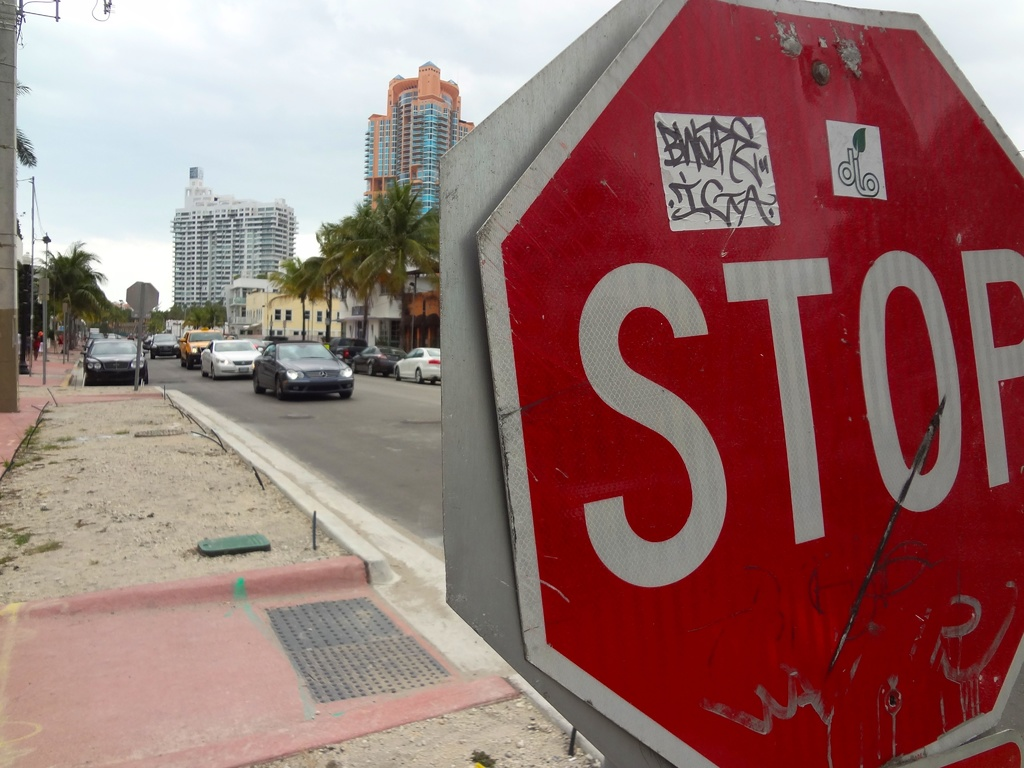stop_sign: (478, 1, 1022, 768)
